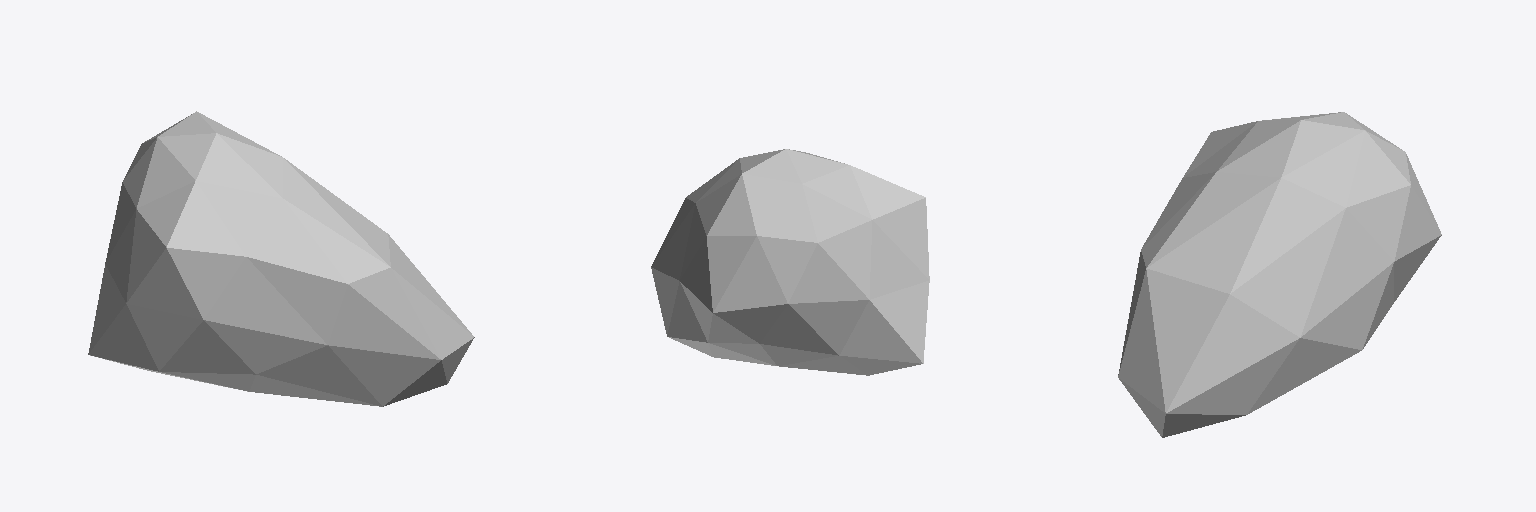
The model's file is stone1.obj.
3 renders of one model, left to right at view 1: azimuth 30°, elevation 25°; view 2: azimuth 150°, elevation 25°; view 3: azimuth 270°, elevation 25°, orthographic.
Visible parts, largest first — view 1: r6_Icosphere.003; view 2: r6_Icosphere.003; view 3: r6_Icosphere.003.
Part boxes in pixels (left/top/right/bottom): r6_Icosphere.003: left=88, top=111, right=474, bottom=406; r6_Icosphere.003: left=651, top=149, right=929, bottom=375; r6_Icosphere.003: left=1118, top=112, right=1441, bottom=437.
Size of the model in its own units: 3.59 by 2.59 by 3.12.